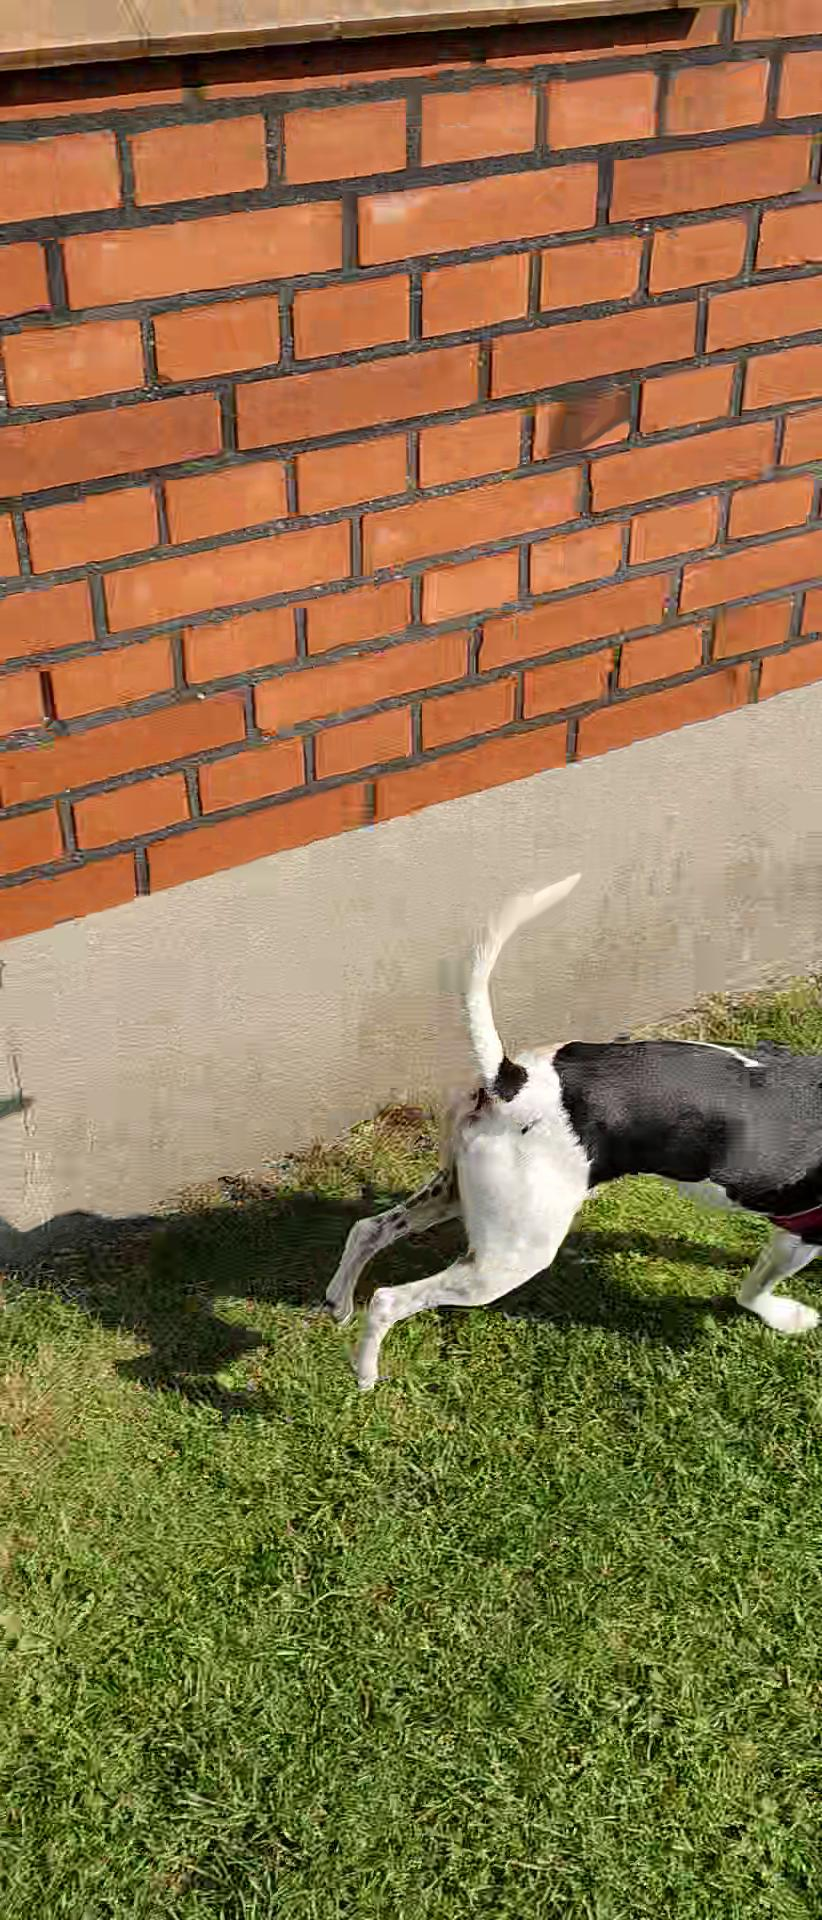Dog: (314, 869, 821, 1398)
